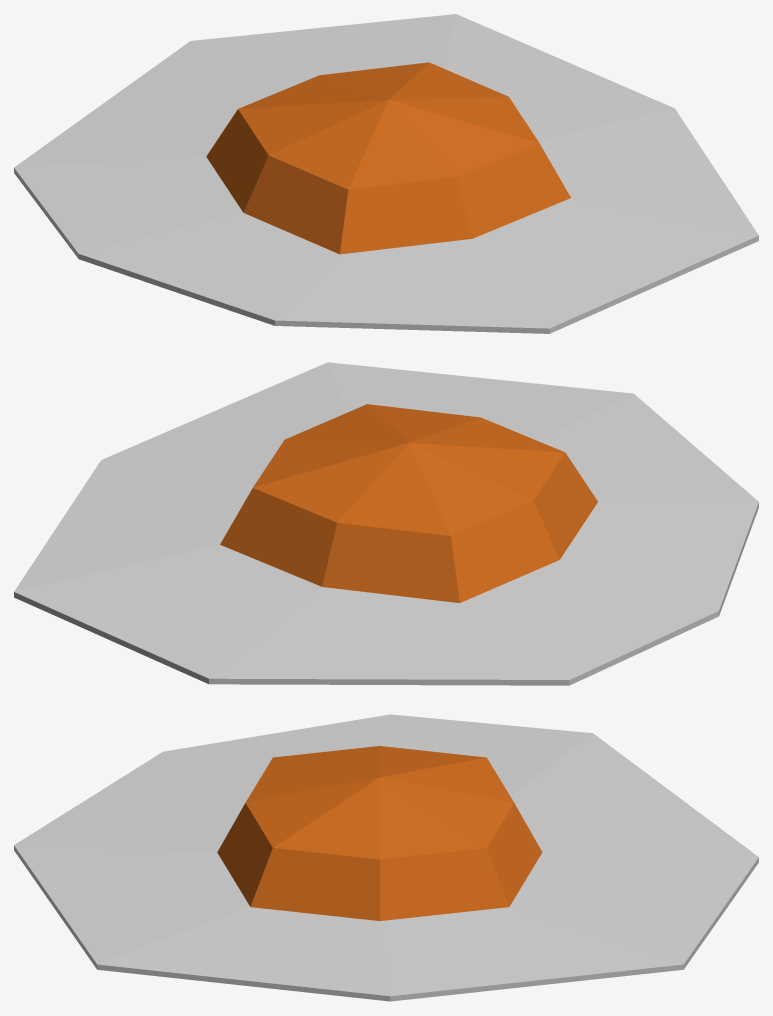
Rendered from friedEgg03.fbx.
3 views of the same model, one above another, from view 1: azimuth 30°, elevation 25°; view 2: azimuth 150°, elevation 25°; view 3: azimuth 270°, elevation 25° (orthographic). The views are drawn at different scales.
Visible parts, largest first — view 1: friedEgg03; view 2: friedEgg03; view 3: friedEgg03.
Part boxes in pixels (x1,y1,x2,y2): friedEgg03: (14, 14, 758, 333); friedEgg03: (14, 362, 758, 685); friedEgg03: (14, 714, 758, 1001).
Bounding box in the file's own units: 13.51 × 1.93 × 15.09.
Materials: 1 (1 with a texture image).
